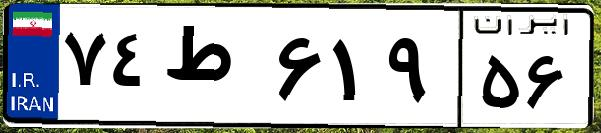1: (330, 28, 385, 110)
4: (110, 28, 158, 98)
5: (475, 38, 525, 113)
6: (270, 28, 330, 110), (525, 38, 570, 115)
7: (57, 26, 110, 100)
9: (385, 28, 445, 110)
ط: (158, 20, 270, 120)
